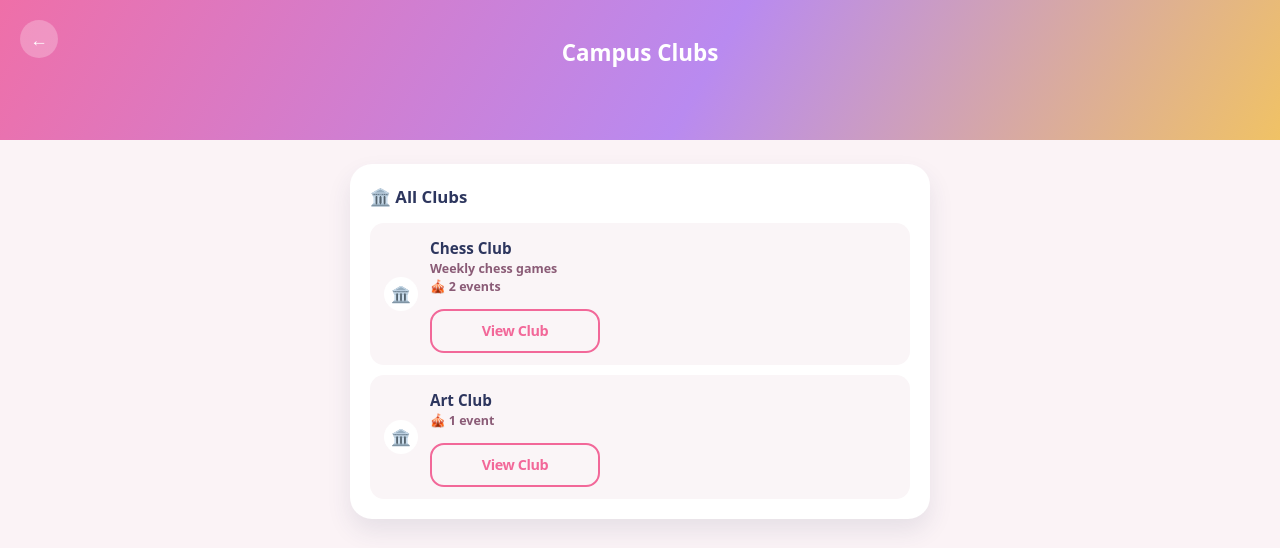
Test: ClubsPage (browse clubs) › a club with no description or events says so
Click the button "View Club" below "Art Club".
click(515, 464)  # box [430, 442, 600, 486]
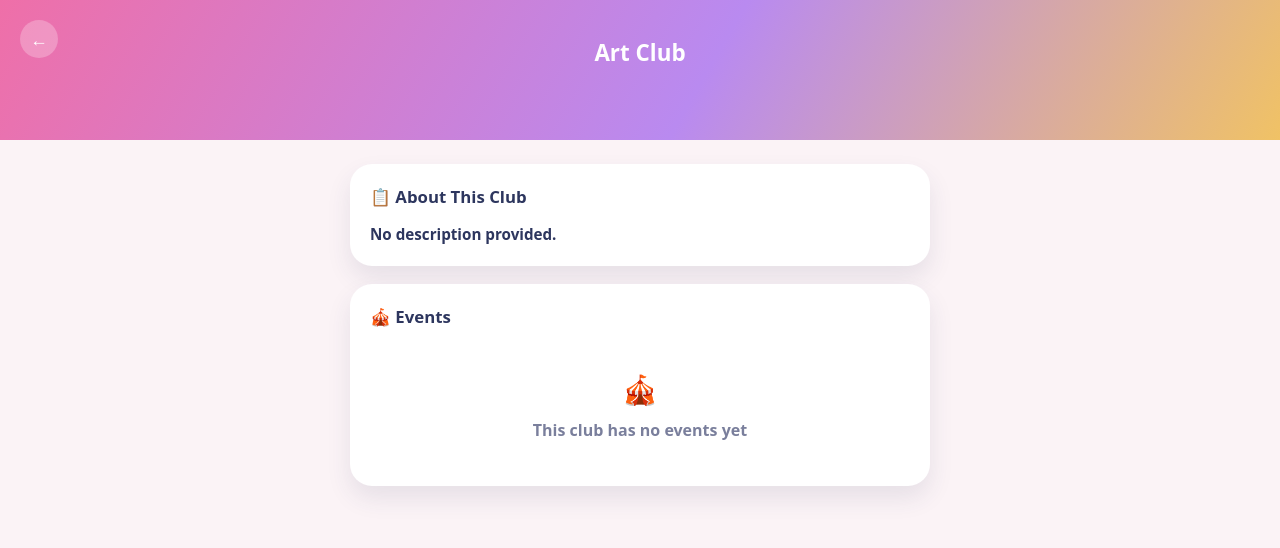
Result: the text "No description provided." is shown at [370, 224, 556, 244]
Result: the text "This club has no events yet" is shown at [533, 419, 747, 441]
